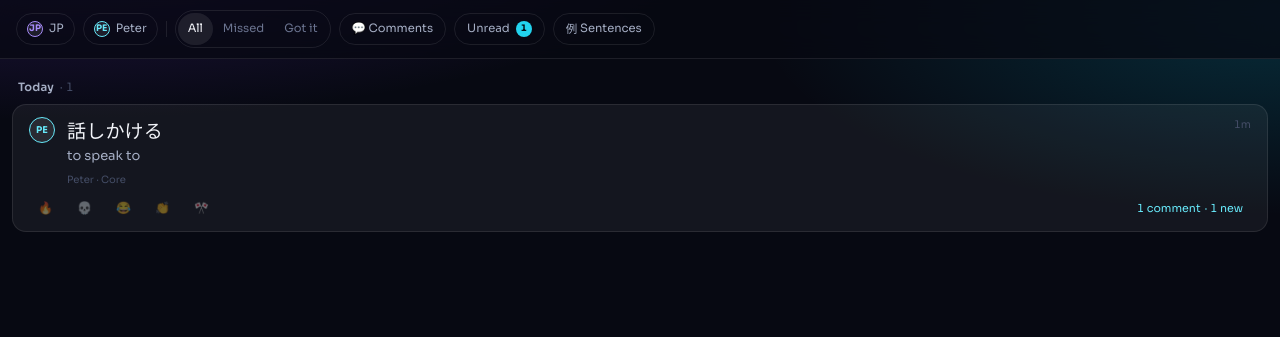
Test: comments › opens the thread and shows the author
Click the button with test id "thread-peter:1" at (1190, 208), box [1129, 197, 1251, 219]
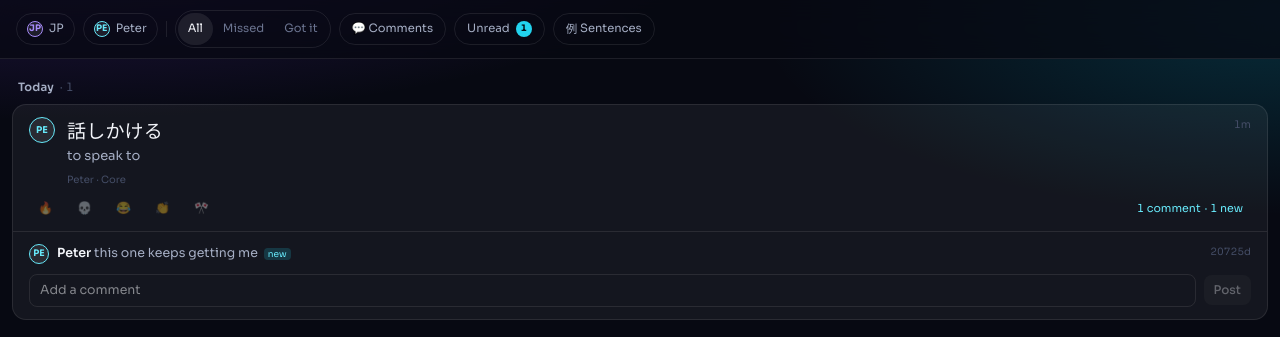
Expected: the text "this one keeps getting me" is shown, [94, 245, 258, 261]
Expected: the text "Peter" is shown, [57, 245, 91, 261]
